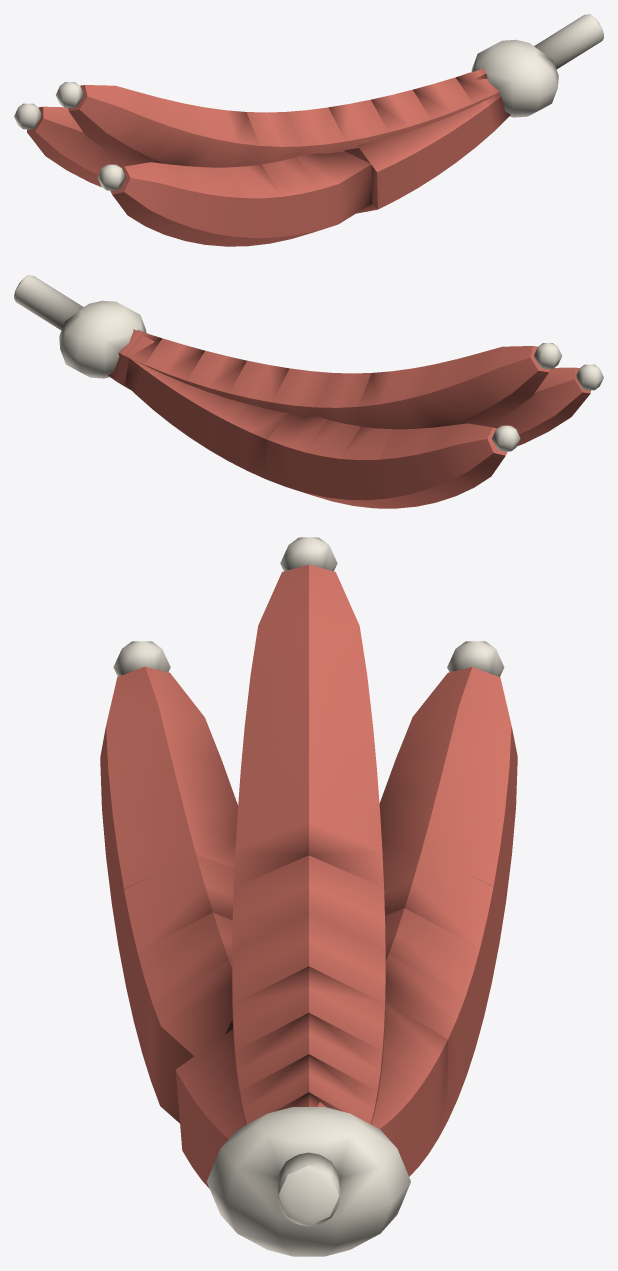
Rendered from nd_banana.glb.
3 views of the same model, one above another, from view 1: azimuth 30°, elevation 25°; view 2: azimuth 150°, elevation 25°; view 3: azimuth 270°, elevation 25° (orthographic). The views are drawn at different scales.
Parts seen in each view (by area): view 1: PART; view 2: PART; view 3: PART.
Part boxes in pixels (left/top/right/bottom): PART: left=14, top=14, right=603, bottom=246; PART: left=14, top=275, right=603, bottom=508; PART: left=100, top=537, right=517, bottom=1256.
Size of the model in its own units: 0.2397 by 0.0812 by 0.0801.
